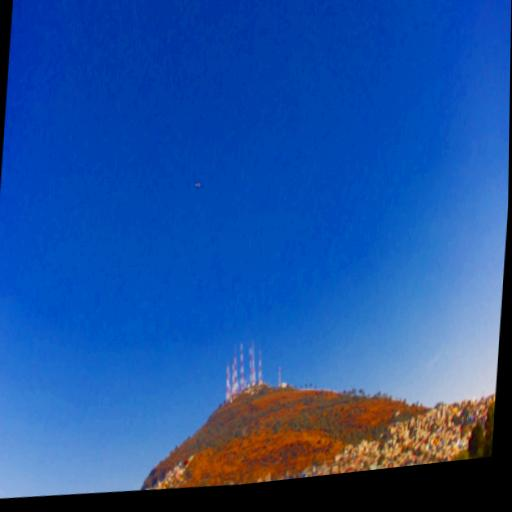drones: (193, 180, 202, 191)
